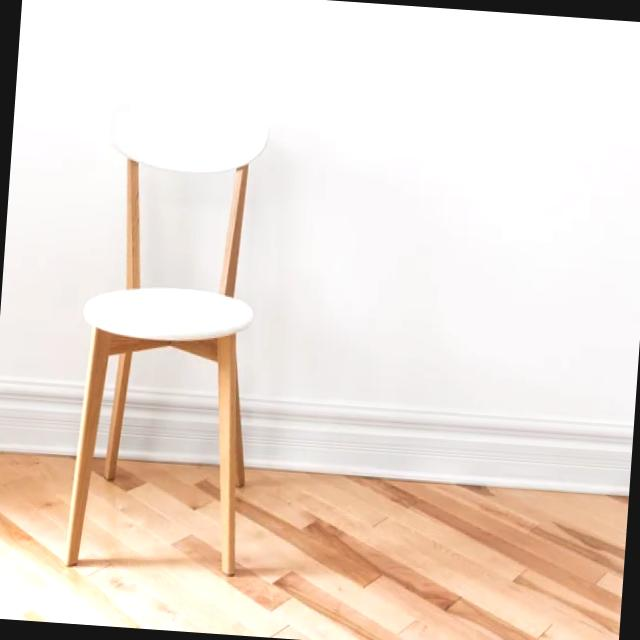obstacle: (52, 78, 295, 596)
